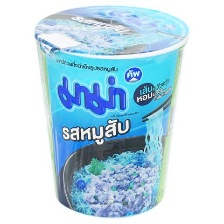paper_cup: (28, 0, 194, 224)
